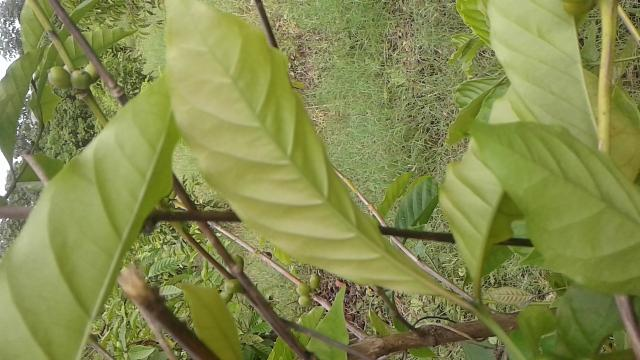healthy: (162, 0, 446, 292)
